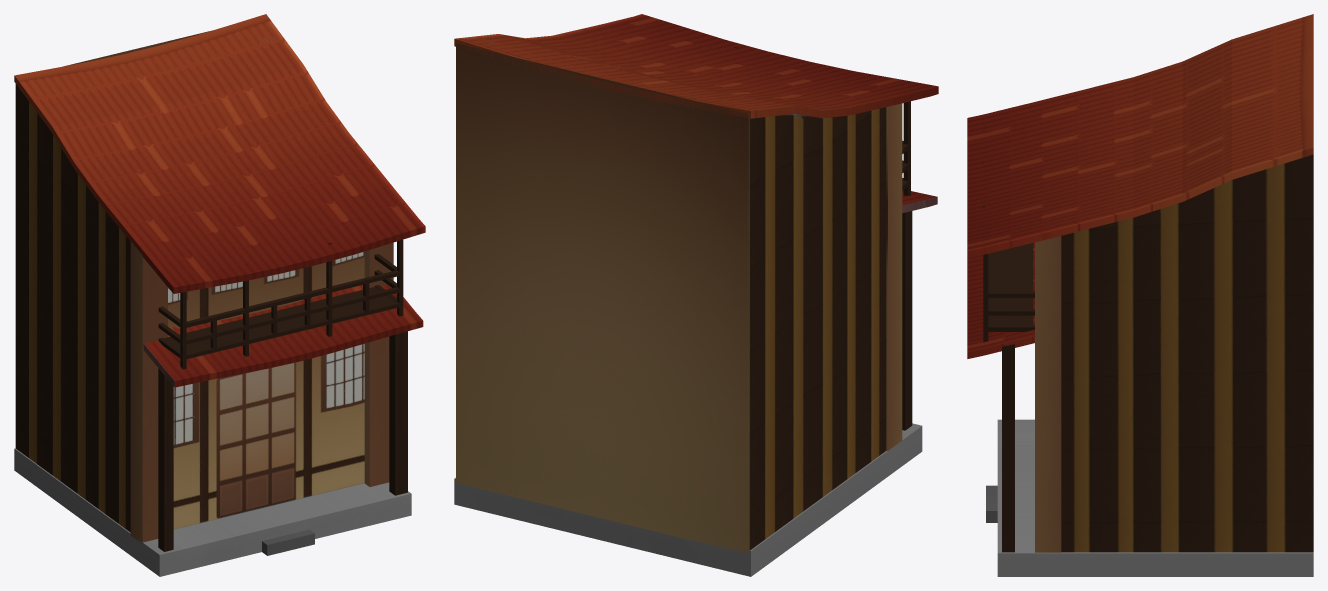
The model's file is miCasaLP4.fbx.
3 views of the same model, side by side, from view 1: azimuth 30°, elevation 25°; view 2: azimuth 150°, elevation 25°; view 3: azimuth 270°, elevation 25° (orthographic). The views are drawn at different scales.
Parts seen in each view (by area): view 1: listonesIzquierda; view 2: listonesIzquierda; view 3: listonesIzquierda.
Boxes of the visible parts, left/top/right/bottom form: listonesIzquierda: left=14, top=14, right=425, bottom=576; listonesIzquierda: left=454, top=14, right=938, bottom=576; listonesIzquierda: left=967, top=14, right=1313, bottom=576.
Bounding box in the file's own units: 100 × 150 × 110.
Materials: 1 (1 with a texture image).
